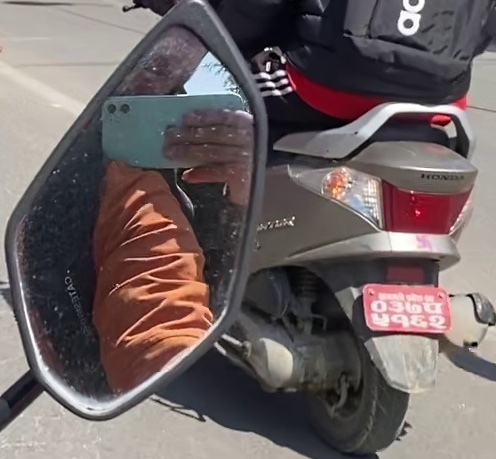license_plate: (360, 282, 453, 334)
